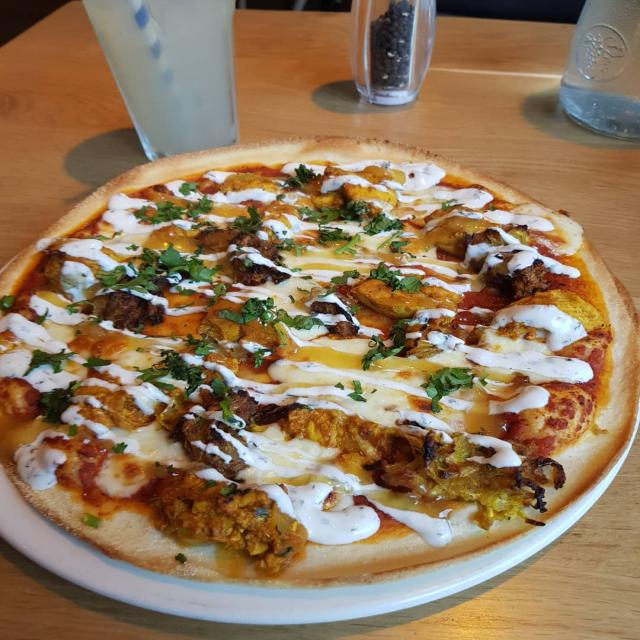basil: (128, 241, 222, 287), (413, 362, 494, 414), (218, 296, 324, 332), (135, 350, 206, 400), (133, 191, 223, 226), (359, 318, 417, 371), (95, 260, 165, 298), (369, 259, 432, 297), (292, 200, 380, 226), (24, 348, 79, 379), (38, 384, 76, 428), (206, 376, 242, 422), (314, 223, 362, 256), (170, 328, 222, 357), (226, 202, 266, 237), (358, 210, 409, 235), (324, 263, 361, 293), (284, 161, 322, 190), (241, 344, 280, 369), (334, 378, 372, 403), (272, 228, 307, 252), (64, 296, 96, 320), (83, 353, 121, 372), (173, 178, 202, 199), (289, 262, 315, 284), (386, 239, 416, 257), (172, 297, 195, 316), (110, 440, 131, 458), (84, 511, 102, 532), (0, 291, 16, 312)
pizza: (0, 137, 637, 588)
